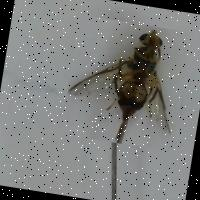Oriental-fruit-fly: (60, 15, 192, 152)
